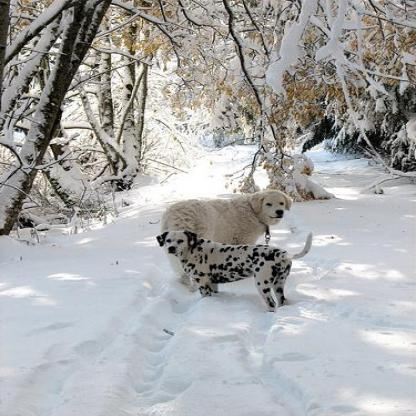kuvasz: (152, 224, 315, 314), (158, 189, 290, 243)
